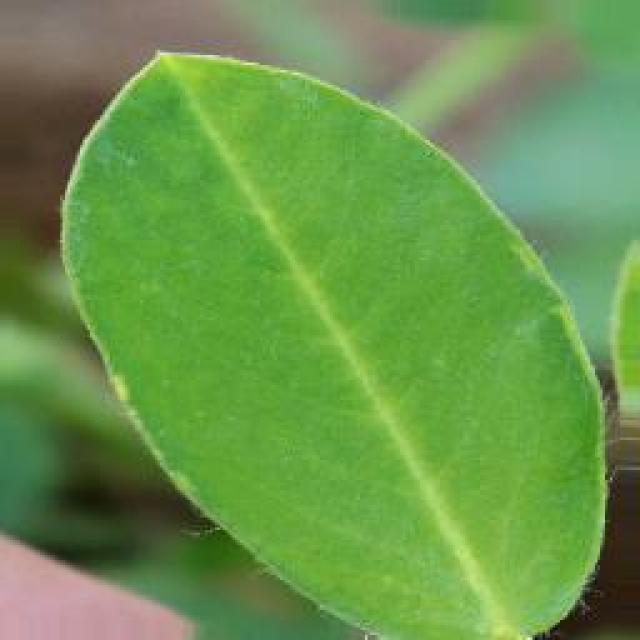Yellow_and_black_sigatoka: (36, 28, 623, 632)
